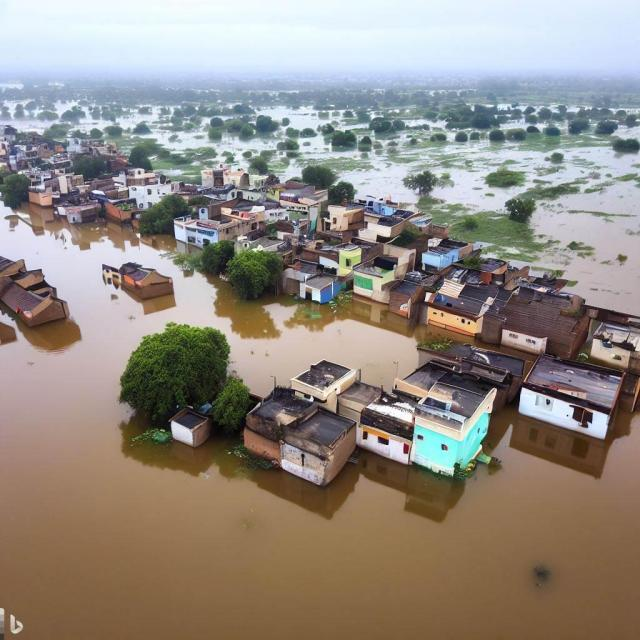flood: (0, 203, 640, 640), (260, 108, 640, 314), (110, 119, 284, 164), (0, 116, 50, 132), (118, 109, 158, 128), (71, 113, 109, 132), (618, 126, 640, 138), (55, 103, 71, 111)
house: (362, 358, 502, 479), (243, 357, 358, 484), (520, 358, 619, 432), (502, 286, 589, 364), (423, 284, 497, 340), (101, 258, 177, 308), (3, 267, 63, 329), (300, 236, 362, 291), (364, 195, 436, 237), (268, 178, 328, 224), (127, 165, 172, 210), (30, 170, 84, 207), (421, 236, 473, 274), (172, 211, 220, 252), (219, 204, 268, 242), (387, 276, 422, 321), (353, 265, 391, 302), (58, 196, 100, 226), (326, 202, 365, 234), (302, 275, 337, 307), (202, 168, 237, 193)
